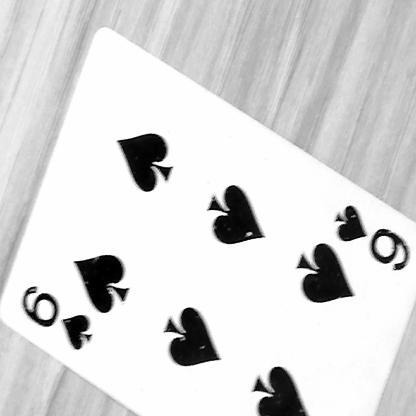6S: (315, 192, 412, 278), (18, 280, 96, 363)
